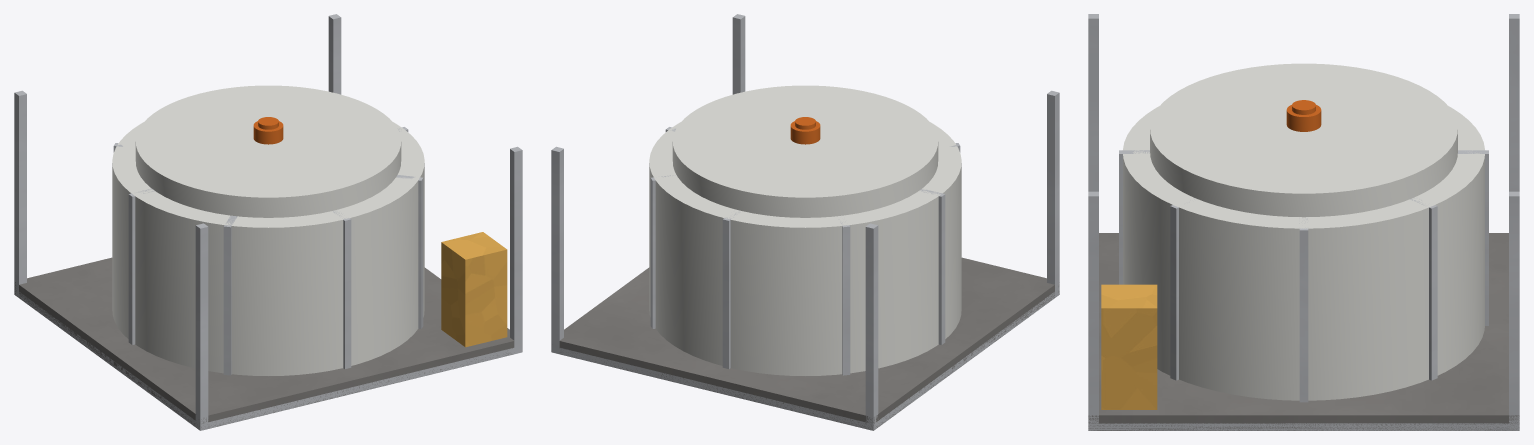
The model's file is power14_reaction_wheel_l.glb.
3 views of the same model, side by side, from view 1: azimuth 30°, elevation 25°; view 2: azimuth 150°, elevation 25°; view 3: azimuth 270°, elevation 25° (orthographic). The views are drawn at different scales.
Visible parts, largest first — view 1: wheel_housing, base_plate, slot_frame, electronics, housing_ribs, port_1; view 2: wheel_housing, base_plate, slot_frame, housing_ribs, port_1; view 3: wheel_housing, base_plate, slot_frame, electronics, housing_ribs, port_1.
Boxes of the visible parts, <box> form: wheel_housing: <box>112,85,424,375</box>; base_plate: <box>15,257,514,428</box>; slot_frame: <box>14,14,522,430</box>; electronics: <box>441,232,507,347</box>; housing_ribs: <box>113,127,423,375</box>; port_1: <box>253,117,283,144</box>; wheel_housing: <box>649,85,961,375</box>; base_plate: <box>559,257,1059,429</box>; slot_frame: <box>551,14,1059,430</box>; housing_ribs: <box>650,127,960,375</box>; port_1: <box>790,117,820,144</box>; wheel_housing: <box>1123,63,1484,400</box>; base_plate: <box>1088,233,1519,430</box>; slot_frame: <box>1088,14,1519,430</box>; electronics: <box>1101,284,1157,409</box>; housing_ribs: <box>1119,150,1488,402</box>; port_1: <box>1286,100,1321,131</box>.
Bounding box in the file's own units: 1 × 0.6 × 1.
5 materials, 3 textured.
